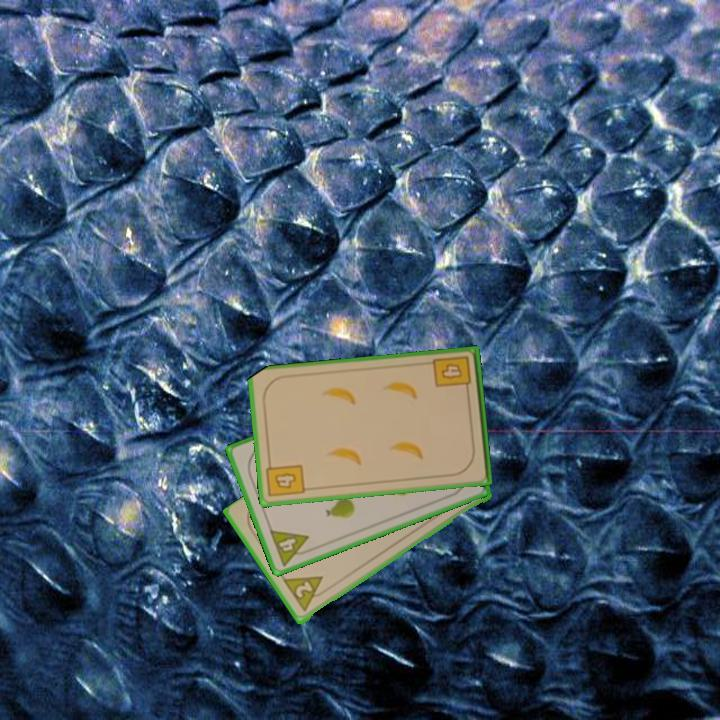2p: (280, 572, 332, 615)
4b: (263, 457, 307, 500), (430, 353, 474, 396)
4p: (266, 526, 316, 569)
